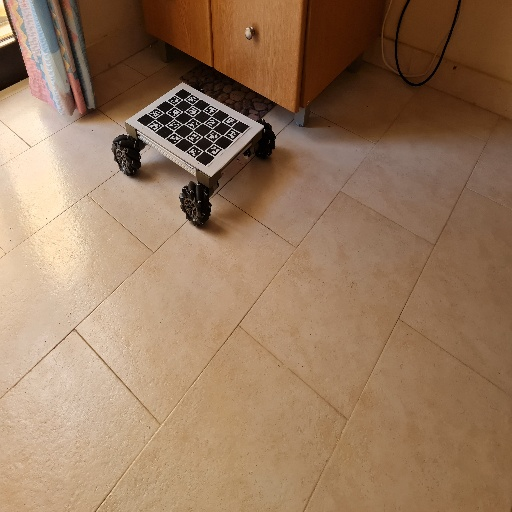Omniwheel: (111, 81, 277, 228)
